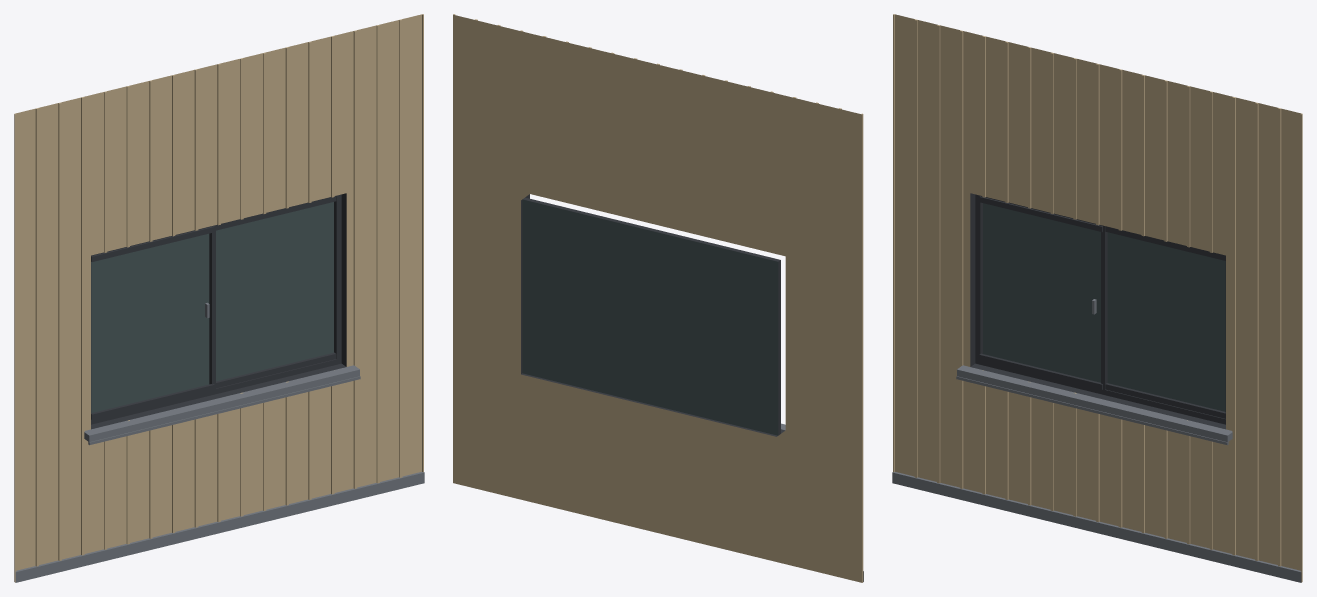
File: top-w3_close.fbx
3 renders of one model, left to right at view 1: azimuth 30°, elevation 25°; view 2: azimuth 150°, elevation 25°; view 3: azimuth 330°, elevation 25°, orthographic.
Parts seen in each view (by area): view 1: a2000/800/top-w3_close; view 2: a2000/800/top-w3_close; view 3: a2000/800/top-w3_close.
Part boxes in pixels (x1,y1,x2,y2): a2000/800/top-w3_close: (14, 14, 424, 582); a2000/800/top-w3_close: (453, 14, 863, 582); a2000/800/top-w3_close: (892, 14, 1302, 582).
Size of the model in its own units: 3.2 by 3.5 by 0.205.
